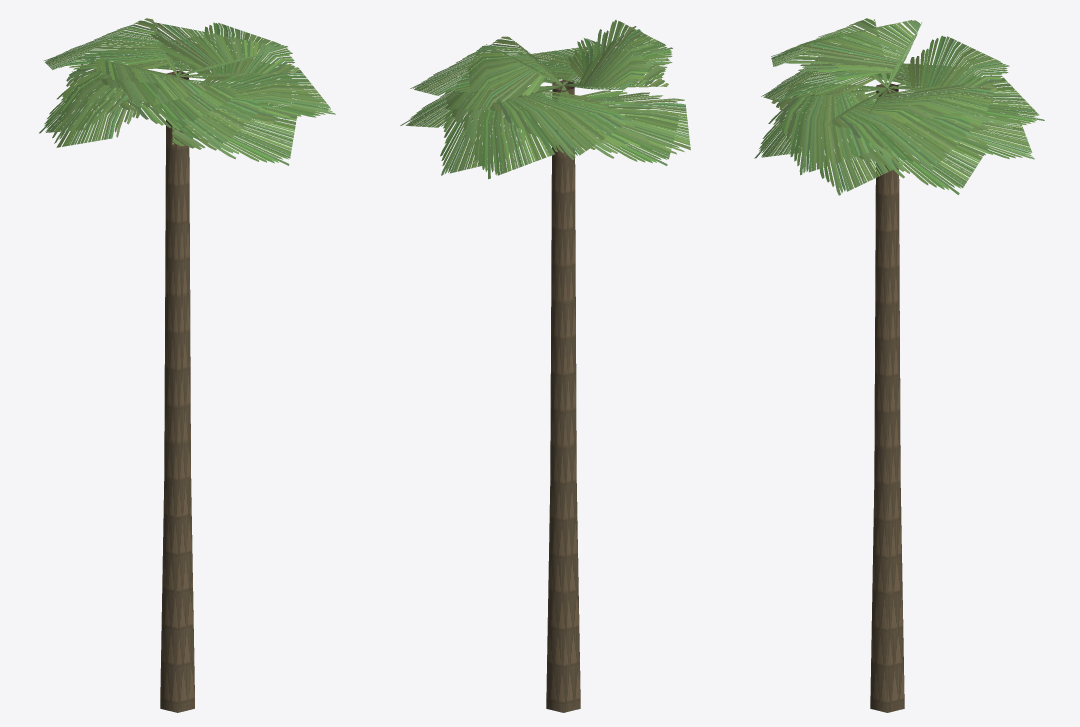
Rendered from FloridaPalm_LOD1.fbx.
3 views of the same model, side by side, from view 1: azimuth 30°, elevation 25°; view 2: azimuth 150°, elevation 25°; view 3: azimuth 270°, elevation 25° (orthographic).
Visible parts, largest first — view 1: FloridaPalm_LOD1; view 2: FloridaPalm_LOD1; view 3: FloridaPalm_LOD1.
Part boxes in pixels (x1,y1,x2,y2): FloridaPalm_LOD1: (39, 18, 335, 712); FloridaPalm_LOD1: (400, 20, 690, 712); FloridaPalm_LOD1: (754, 18, 1044, 712).
Size of the model in its own units: 5.59 by 11.74 by 5.54.
1 material, 1 textured.
